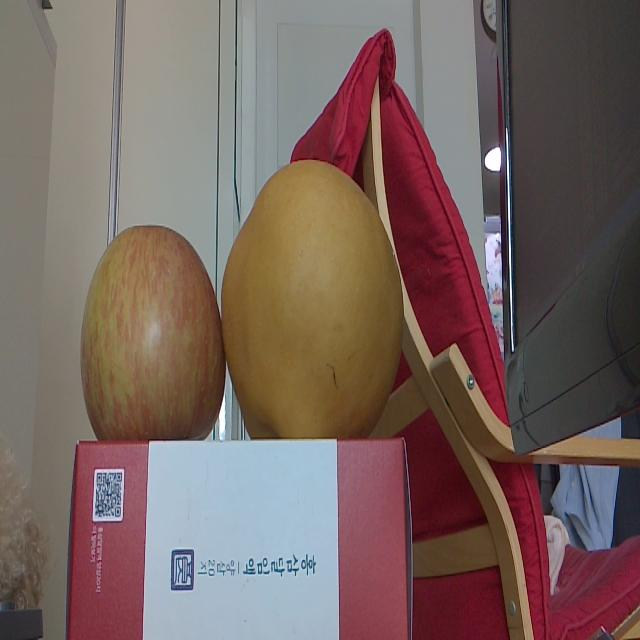apple: (227, 154, 404, 443), (79, 220, 227, 444)
